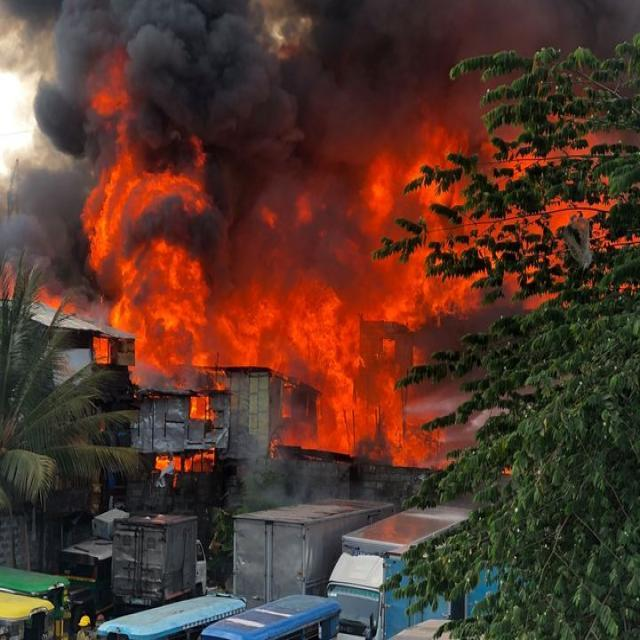Fire: (92, 72, 236, 376), (358, 164, 614, 330), (222, 195, 368, 378), (296, 336, 446, 474)
Smoke: (120, 0, 372, 178), (0, 1, 104, 297), (381, 0, 635, 52), (372, 41, 464, 170)
